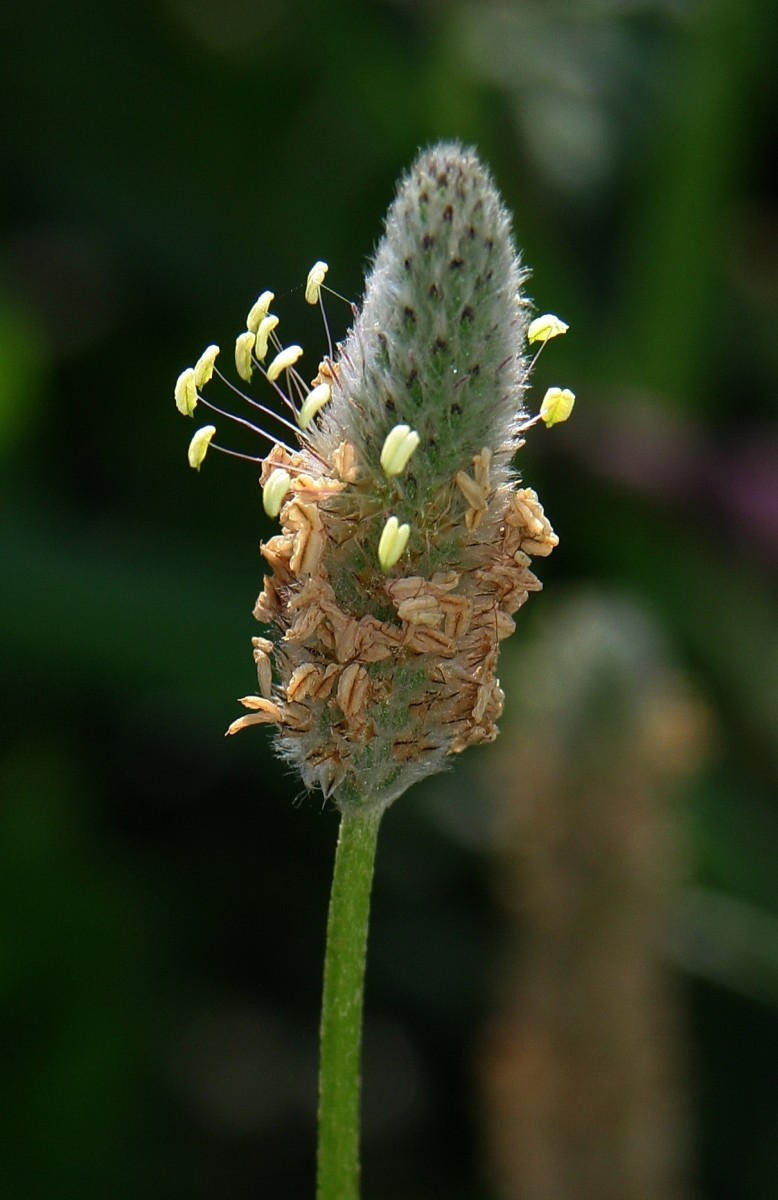buckhorn plantain: (168, 100, 621, 1173)
